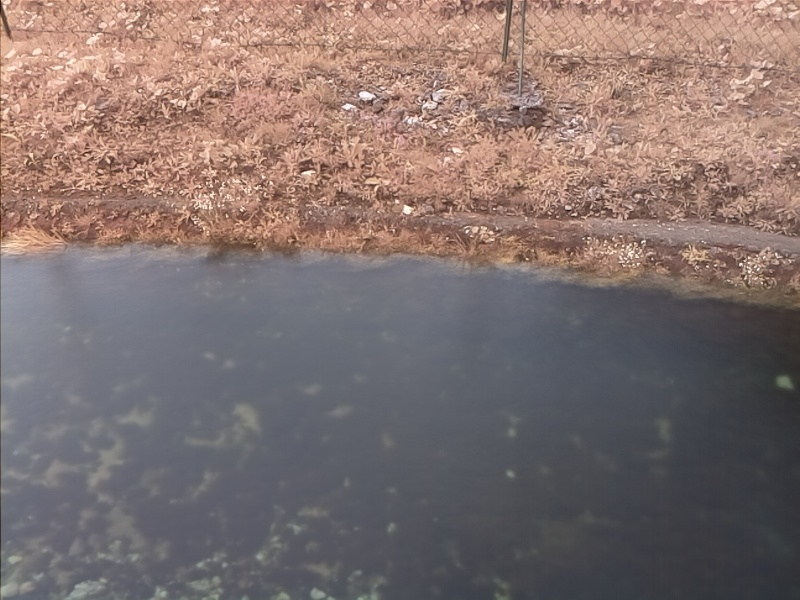Water: (2, 247, 800, 599)
